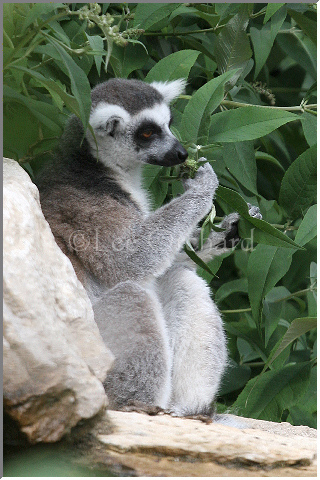cat: (26, 76, 259, 441)
